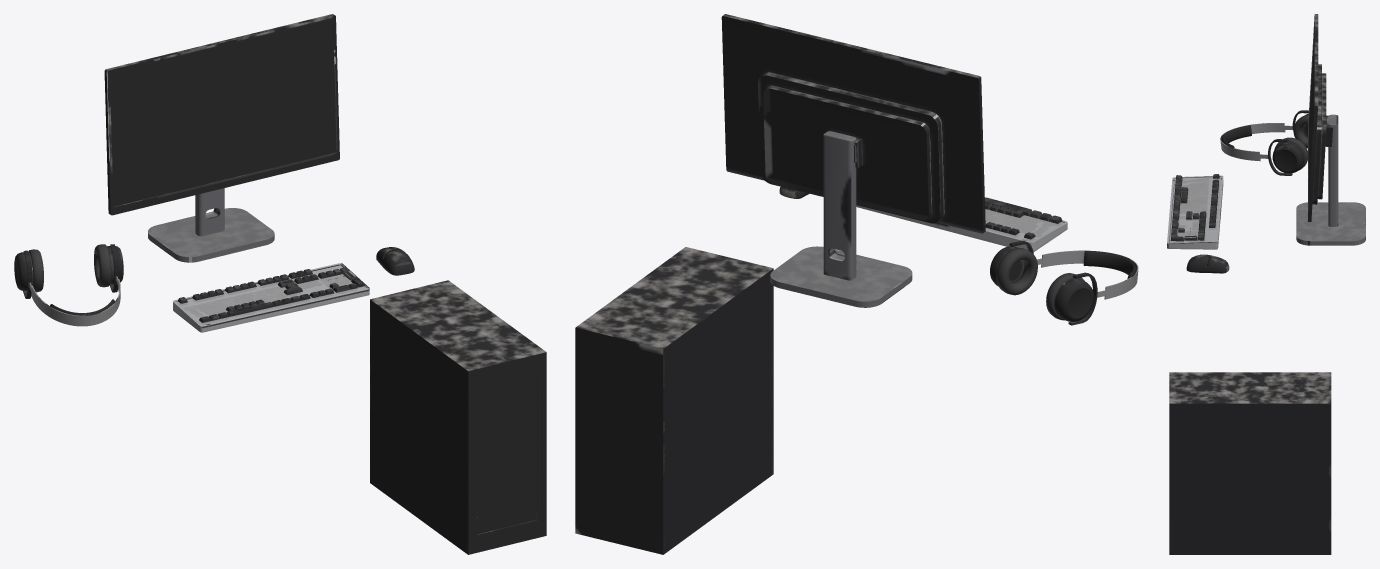
File: same_seed_desk_computer.glb
3 views of the same model, side by side, from view 1: azimuth 30°, elevation 25°; view 2: azimuth 150°, elevation 25°; view 3: azimuth 270°, elevation 25° (orthographic). The views are drawn at different scales.
Parts seen in each view (by area): view 1: monitor_body_low, pc_case_low, pc_front_panel_low, kb_case_low, monitor_base_low, keyboard_keycaps_low, monitor_neck_low, headphone_band_low, mouse_shell_low, headphone_pad_l_low; view 2: pc_case_low, monitor_body_low, monitor_base_low, monitor_neck_low, kb_case_low, headphone_cup_r_low, headphone_pad_l_low, headphone_band_low, keyboard_keycaps_low, headphone_cushion_low; view 3: pc_case_low, kb_case_low, monitor_body_low, monitor_base_low, keyboard_keycaps_low, monitor_neck_low, headphone_cup_l_low, headphone_band_low, mouse_shell_low, pc_front_panel_low, headphone_cushion_low, headphone_pad_r_low.
Part boxes in pixels (x1=…): monitor_body_low: x1=104, y1=14, x2=339, y2=215; pc_case_low: x1=370, y1=280, x2=544, y2=553; pc_front_panel_low: x1=467, y1=351, x2=546, y2=554; kb_case_low: x1=173, y1=263, x2=369, y2=332; monitor_base_low: x1=148, y1=208, x2=274, y2=262; keyboard_keycaps_low: x1=178, y1=267, x2=364, y2=322; monitor_neck_low: x1=195, y1=188, x2=224, y2=236; headphone_band_low: x1=31, y1=279, x2=120, y2=326; mouse_shell_low: x1=376, y1=247, x2=414, y2=275; headphone_pad_l_low: x1=94, y1=244, x2=111, y2=287; pc_case_low: x1=575, y1=248, x2=772, y2=554; monitor_body_low: x1=721, y1=14, x2=985, y2=233; monitor_base_low: x1=770, y1=246, x2=912, y2=307; monitor_neck_low: x1=823, y1=131, x2=856, y2=280; kb_case_low: x1=856, y1=205, x2=1067, y2=252; headphone_cup_r_low: x1=1054, y1=278, x2=1093, y2=321; headphone_pad_l_low: x1=996, y1=247, x2=1037, y2=295; headphone_band_low: x1=1041, y1=250, x2=1138, y2=299; keyboard_keycaps_low: x1=985, y1=197, x2=1062, y2=239; headphone_cushion_low: x1=1083, y1=250, x2=1136, y2=278; pc_case_low: x1=1171, y1=372, x2=1331, y2=554; kb_case_low: x1=1167, y1=175, x2=1223, y2=249; monitor_body_low: x1=1308, y1=14, x2=1326, y2=221; monitor_base_low: x1=1296, y1=202, x2=1365, y2=245; keyboard_keycaps_low: x1=1170, y1=174, x2=1219, y2=241; monitor_neck_low: x1=1328, y1=114, x2=1338, y2=226; headphone_cup_l_low: x1=1272, y1=142, x2=1304, y2=173; headphone_band_low: x1=1220, y1=123, x2=1285, y2=161; mouse_shell_low: x1=1186, y1=254, x2=1229, y2=273; pc_front_panel_low: x1=1169, y1=372, x2=1171, y2=554; headphone_cushion_low: x1=1221, y1=125, x2=1251, y2=147; headphone_pad_r_low: x1=1293, y1=115, x2=1308, y2=148.
Size of the model in its own units: 1.2 by 1.24 by 0.5605.
Materials: 10 (10 with a texture image).
